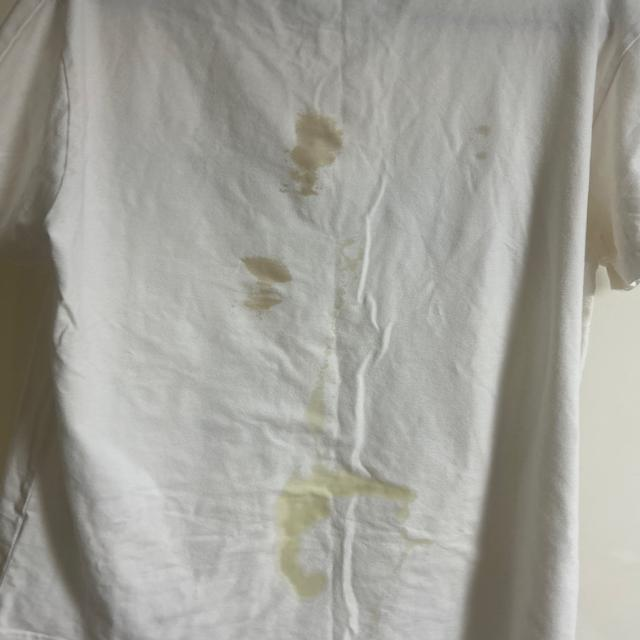stain: (274, 504, 350, 602), (286, 469, 416, 507), (284, 105, 335, 195), (233, 256, 296, 315), (306, 376, 339, 439), (468, 119, 497, 162)
